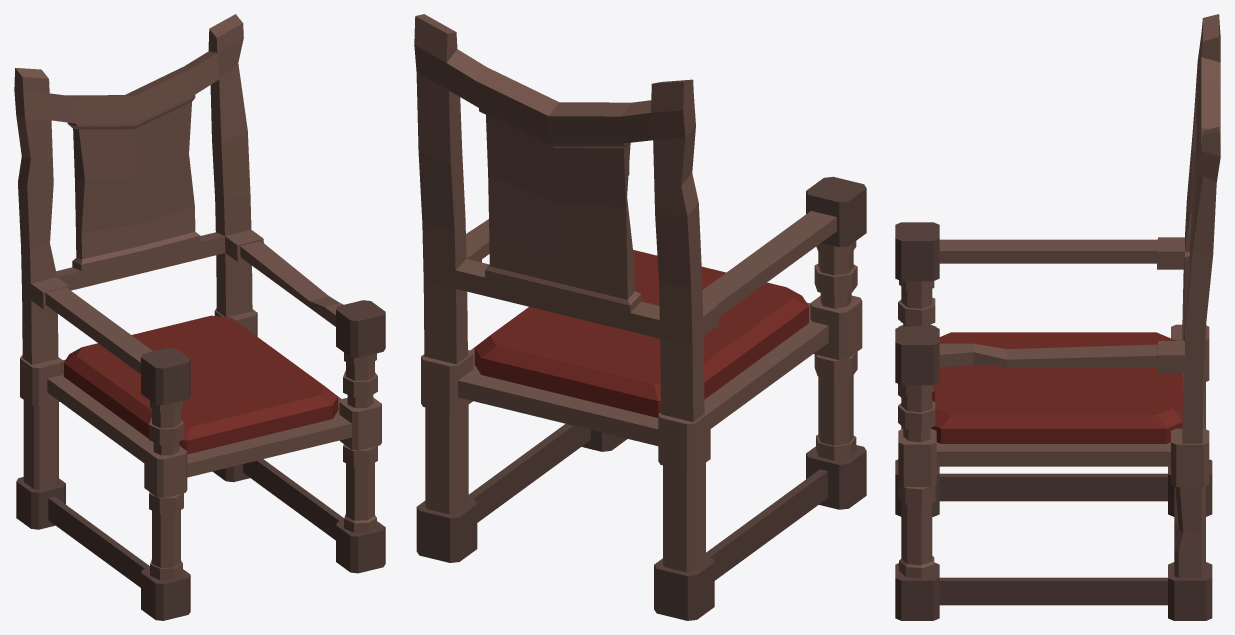
Rendered from quaternius-modular-dungeon-updated-chair.glb.
3 renders of one model, left to right at view 1: azimuth 30°, elevation 25°; view 2: azimuth 150°, elevation 25°; view 3: azimuth 270°, elevation 25°, orthographic. The views are drawn at different scales.
Parts seen in each view (by area): view 1: Chair; view 2: Chair; view 3: Chair.
Boxes of the visible parts, x1=… form: Chair: x1=14, y1=14, x2=385, y2=620; Chair: x1=414, y1=14, x2=866, y2=620; Chair: x1=895, y1=14, x2=1220, y2=620.
Bounding box in the file's own units: 0.627 × 1.16 × 0.7025.
